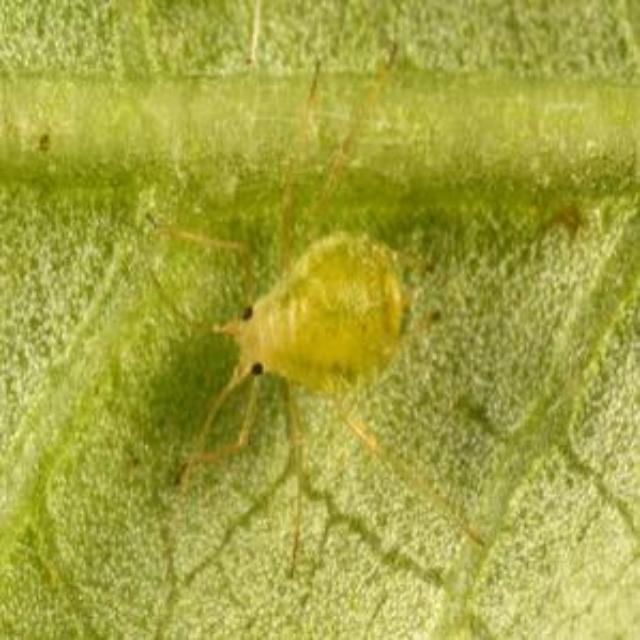Green peach aphid: (109, 125, 479, 512)
